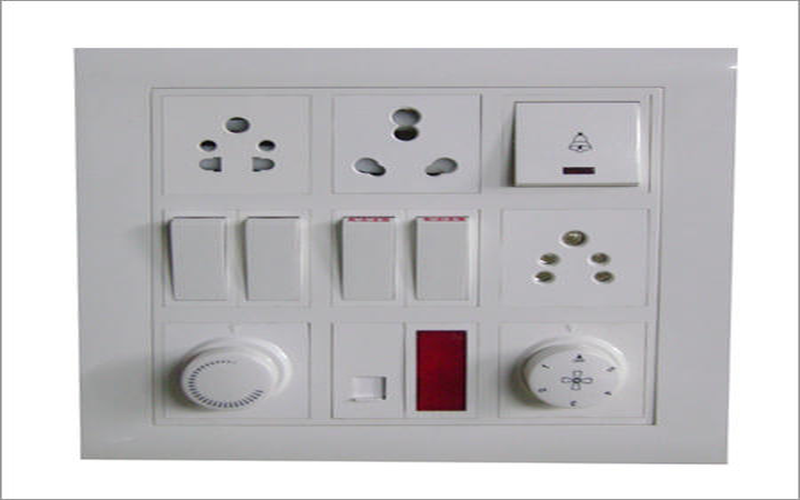Switches: (154, 310, 646, 427), (158, 191, 491, 320), (499, 84, 655, 182)
